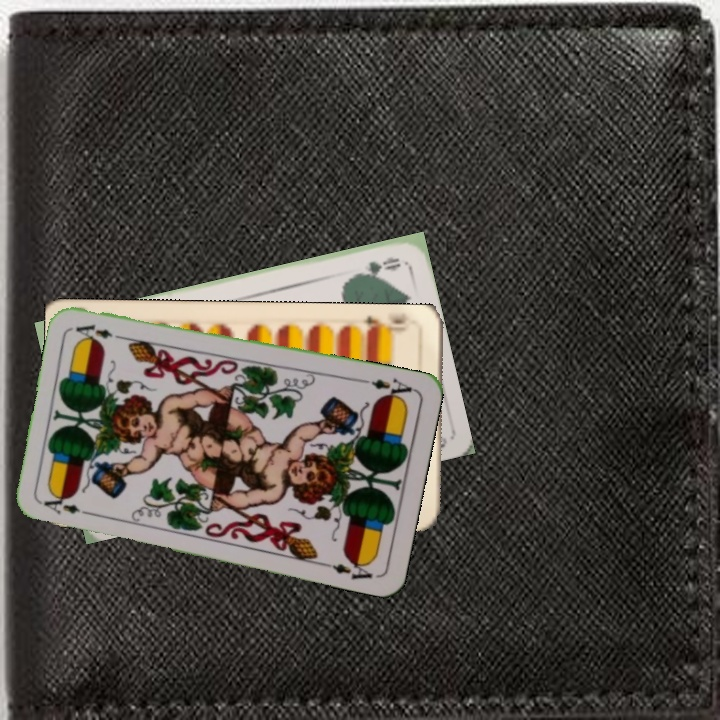E10: (360, 311, 419, 338)
EA: (367, 373, 417, 403), (39, 496, 82, 517)
GO: (347, 252, 404, 282)
